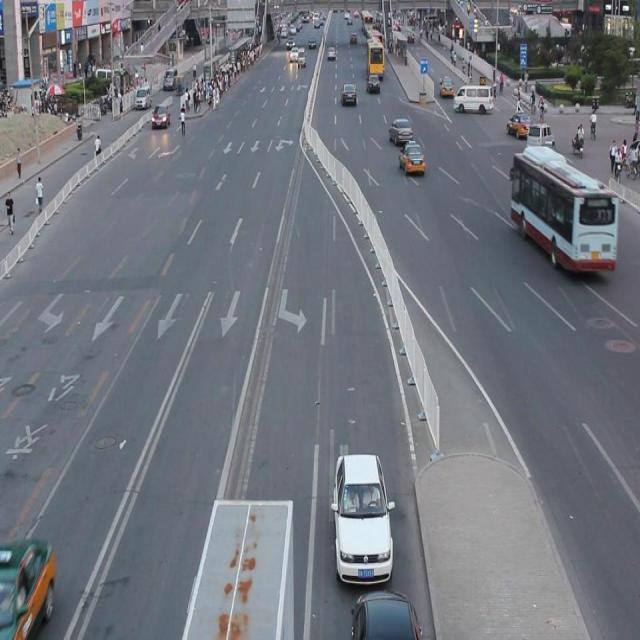BigCar: (511, 146, 618, 284), (366, 39, 388, 80)
car: (331, 453, 394, 589), (0, 544, 57, 640), (356, 589, 421, 640), (456, 82, 494, 122), (398, 136, 426, 183), (501, 114, 530, 142), (388, 115, 413, 146), (152, 103, 172, 133), (530, 128, 555, 152), (134, 85, 152, 114), (340, 83, 360, 105), (162, 69, 178, 93), (439, 78, 453, 97), (369, 76, 381, 98), (326, 41, 336, 63), (288, 45, 298, 64), (299, 47, 307, 69), (351, 26, 359, 44), (308, 39, 316, 50)
